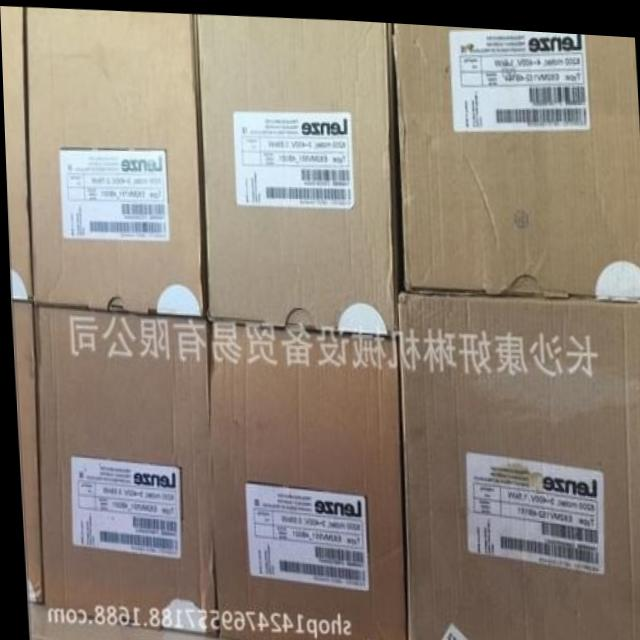box: (397, 285, 640, 640), (390, 18, 640, 294), (203, 317, 403, 640), (193, 12, 393, 328), (32, 305, 214, 634), (23, 8, 203, 314), (10, 299, 41, 603), (0, 6, 30, 301)
